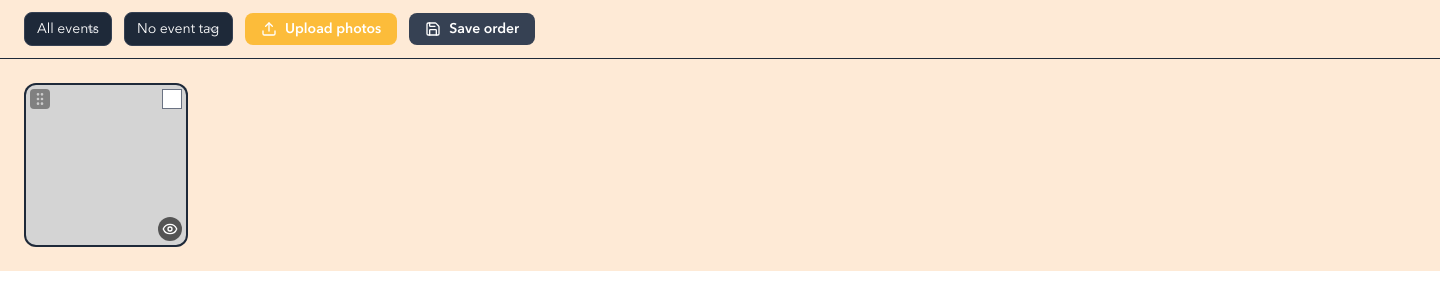
Test case: shows delete button when photos are selected
Expected: the text "Delete (" is not shown
// Select the photo via checkbox
Click the checkbox at (172, 99), box [162,89,182,109]
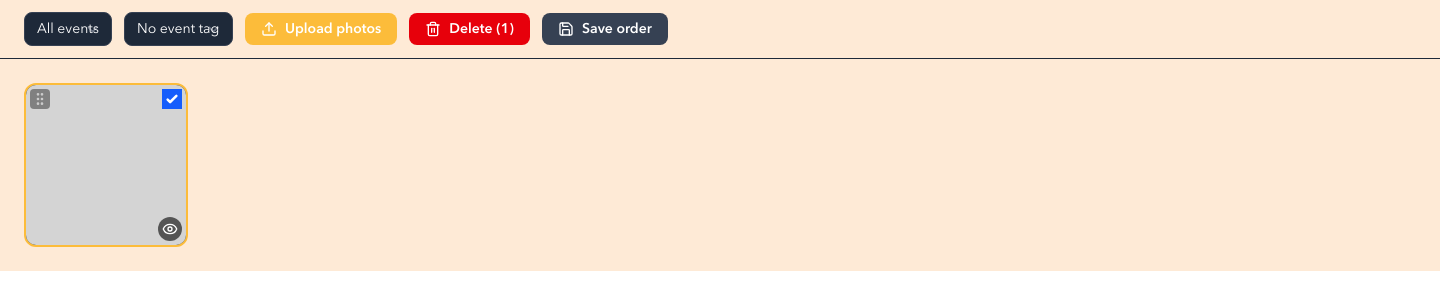
Result: the button "Delete (1)" is shown at [409,13,530,45]
